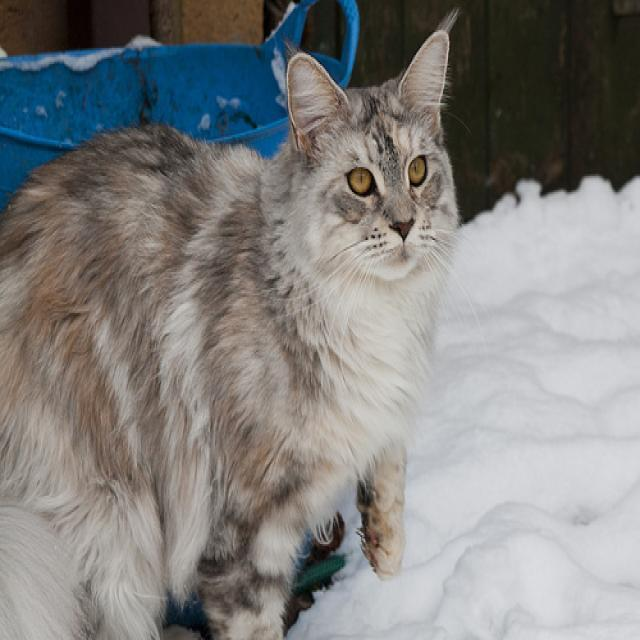Maine_Coon: (283, 26, 463, 282)
